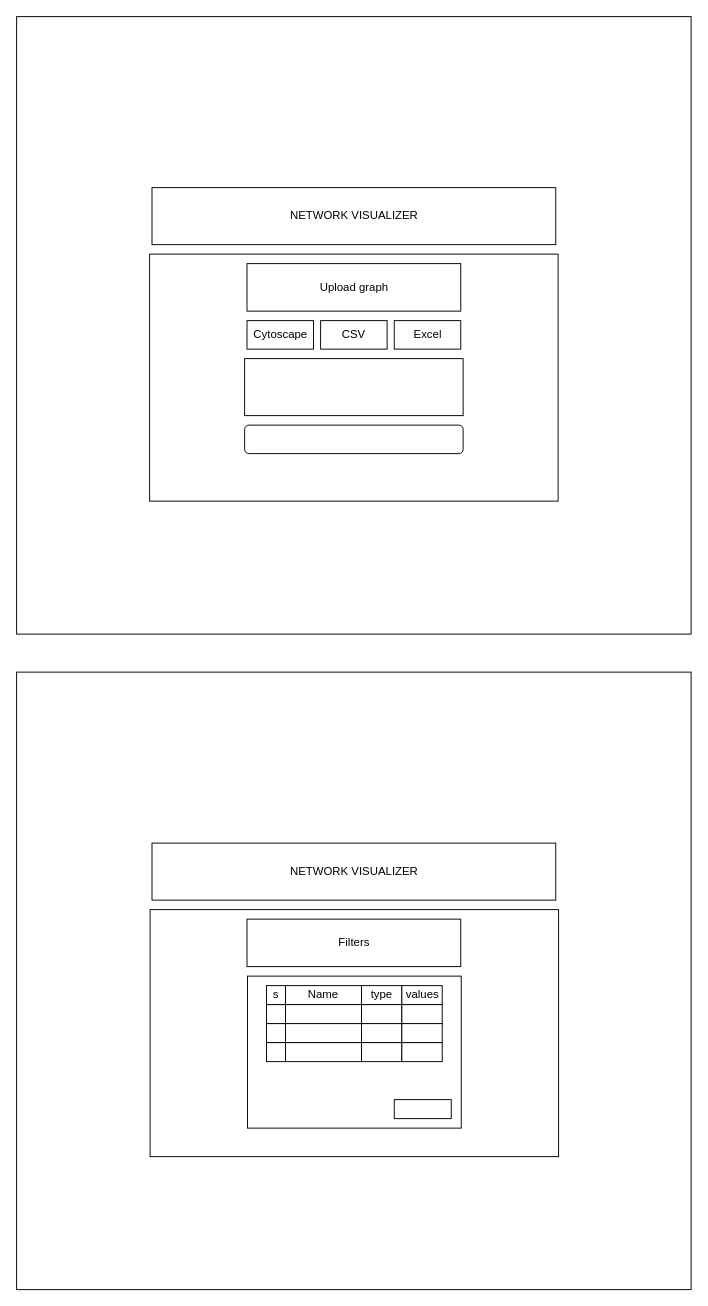
This 708x1306 diagram has some shape labels left out. Here are the shapes that lost their labels. From the top down, the centre of each, then its label:
the point at 353,439: UPLOAD
the point at 422,1109: OK
